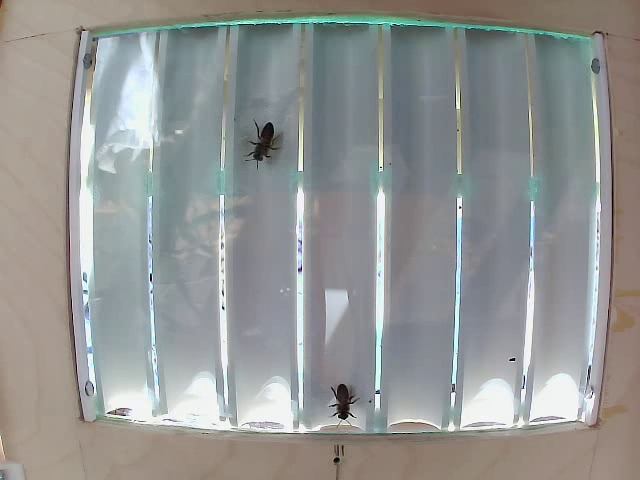bee: (313, 378, 362, 418), (242, 122, 288, 164)
